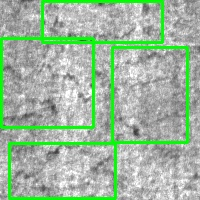crazing: (1, 38, 93, 127), (112, 47, 187, 142), (9, 143, 115, 198), (42, 1, 162, 42)
